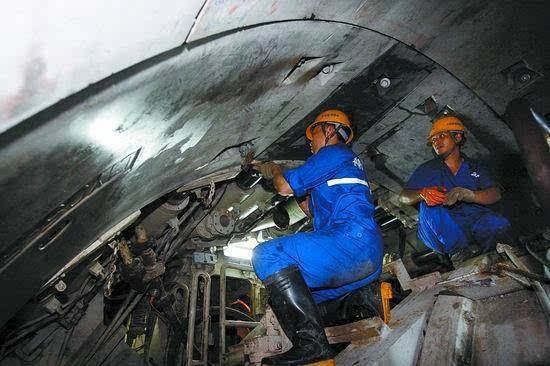yellow: (306, 107, 353, 155), (429, 117, 467, 157)
